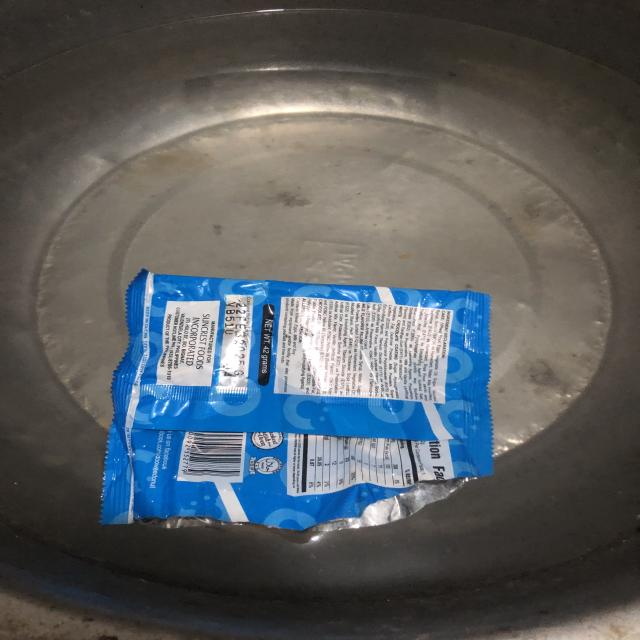Plastic Wrapper: (72, 240, 552, 560)
